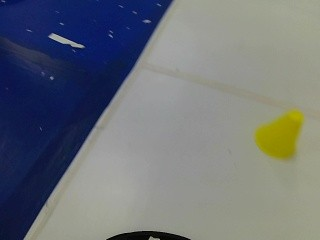cone: (251, 102, 306, 163)
